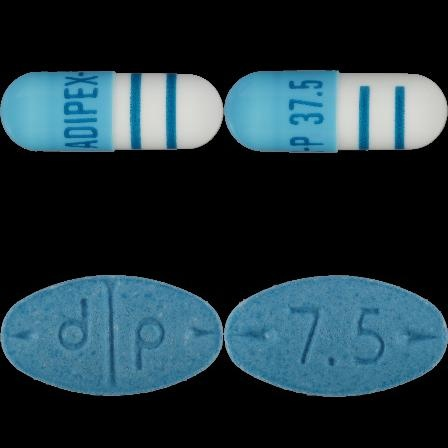57844-019: (0, 0, 224, 224)
